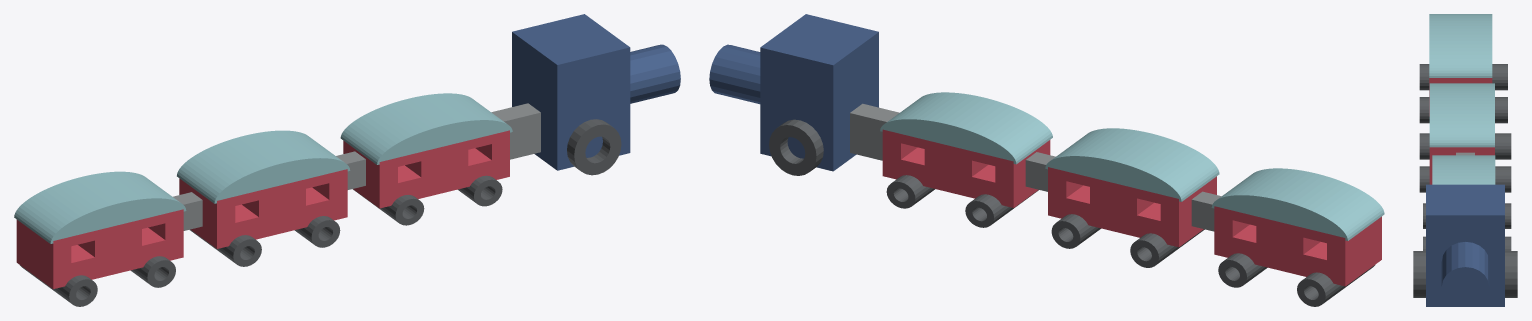
File: Frantic Jaagub.glb
The picture shows the model from 3 angles, left to right: view 1: azimuth 30°, elevation 25°; view 2: azimuth 150°, elevation 25°; view 3: azimuth 270°, elevation 25°; orthographic projection. The views are drawn at different scales.
Parts seen in each view (by area): view 1: Mesh_Mesh_head_geo.001_lambert2SG.001; view 2: Mesh_Mesh_head_geo.001_lambert2SG.001; view 3: Mesh_Mesh_head_geo.001_lambert2SG.001.
Part boxes in pixels (<box>): Mesh_Mesh_head_geo.001_lambert2SG.001: <box>14,14,680,306</box>; Mesh_Mesh_head_geo.001_lambert2SG.001: <box>709,14,1384,306</box>; Mesh_Mesh_head_geo.001_lambert2SG.001: <box>1413,14,1517,306</box>.
Bounding box in the file's own units: 202 × 37 × 33.
